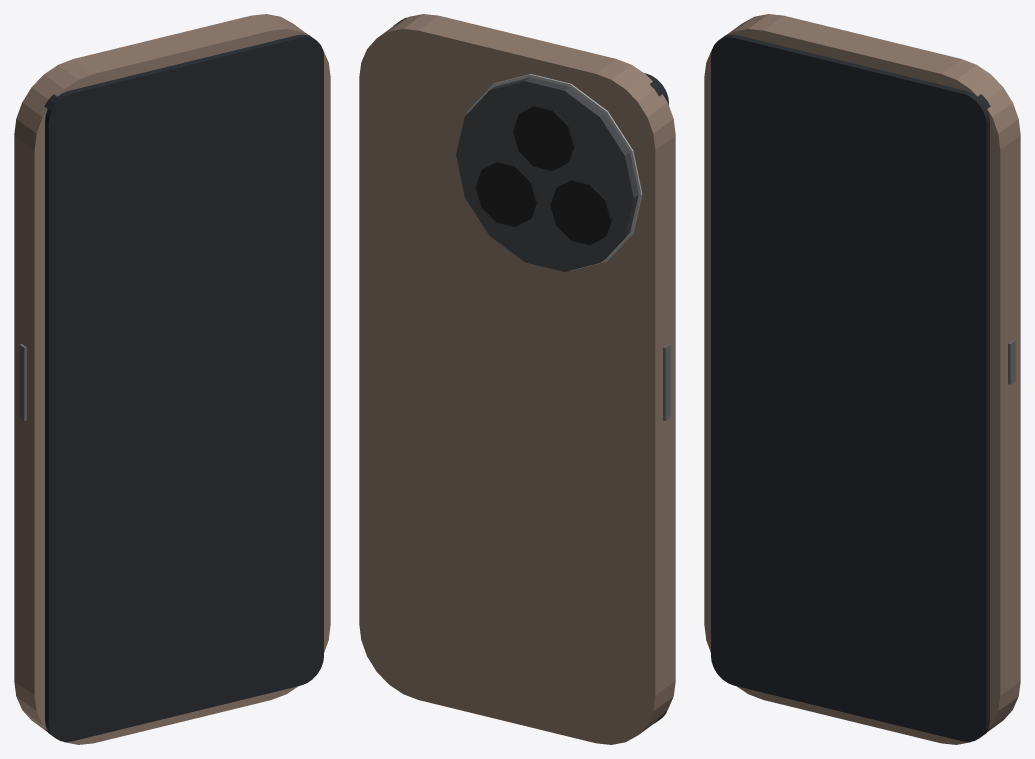
Rendered from 14_oppo_find_x6_pro.glb.
The picture shows the model from 3 angles, left to right: view 1: azimuth 30°, elevation 25°; view 2: azimuth 150°, elevation 25°; view 3: azimuth 330°, elevation 25°; orthographic projection.
Visible parts, largest first — view 1: geometry_1, geometry_0, geometry_3; view 2: geometry_0, geometry_5, geometry_11, geometry_7, geometry_9, geometry_6, geometry_3; view 3: geometry_1, geometry_0.
Boxes of the visible parts, x1=… form: geometry_1: x1=44, y1=33, x2=323, y2=741; geometry_0: x1=14, y1=14, x2=330, y2=744; geometry_3: x1=19, y1=344, x2=26, y2=420; geometry_0: x1=359, y1=14, x2=675, y2=744; geometry_5: x1=456, y1=77, x2=638, y2=271; geometry_11: x1=475, y1=161, x2=537, y2=226; geometry_7: x1=513, y1=105, x2=574, y2=170; geometry_9: x1=550, y1=179, x2=612, y2=245; geometry_6: x1=467, y1=74, x2=642, y2=270; geometry_3: x1=663, y1=344, x2=670, y2=420; geometry_1: x1=711, y1=33, x2=990, y2=741; geometry_0: x1=704, y1=14, x2=1020, y2=744.
Bounding box in the file's own units: 0.2475 × 0.5282 × 0.0454.
